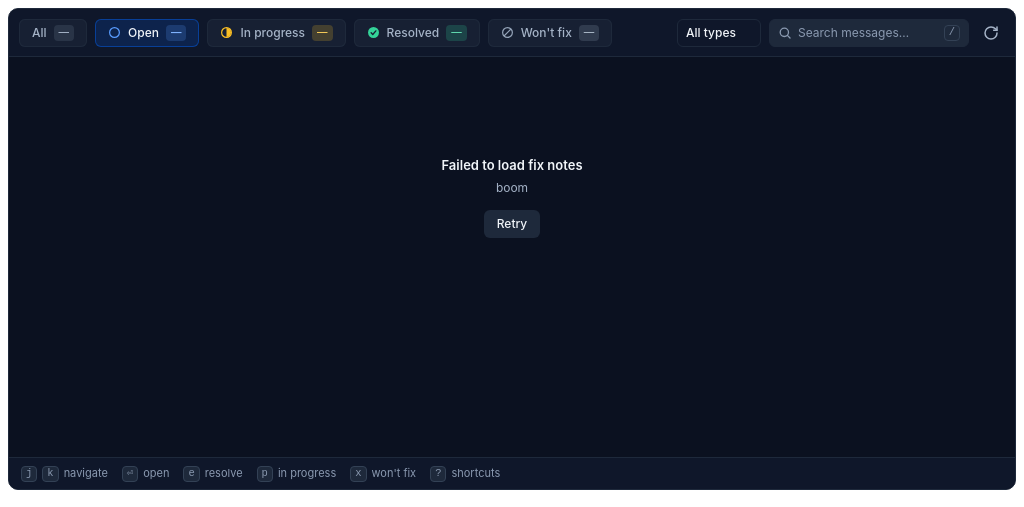
it: InstaFixInbox — empty & error states › shows the error state with a retry button when the list fails, and retry re-fetches
The image size is (1024, 507).
Expected: the text "Failed to load fix notes" is shown, [442, 156, 583, 175]
Click the button "Retry" at point(512, 224), box [484, 210, 540, 238]
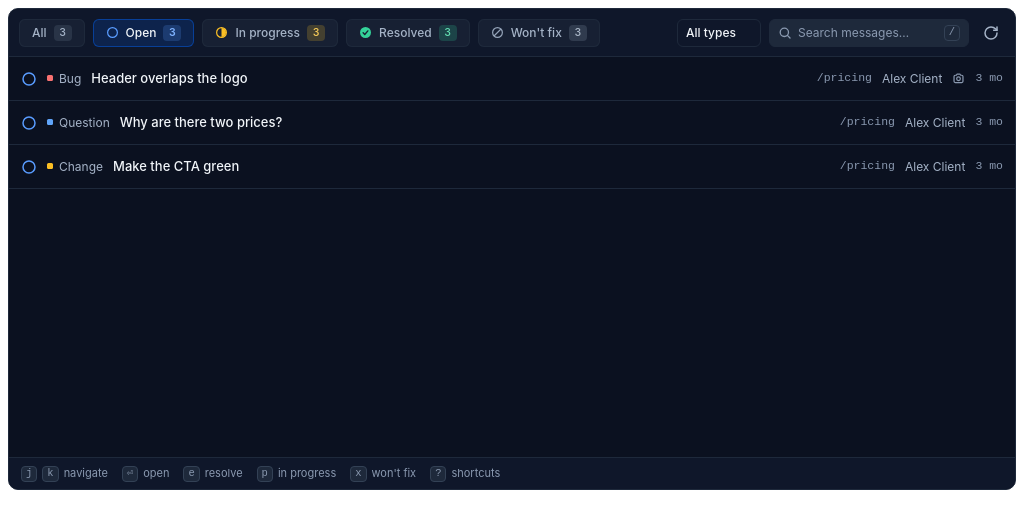
Expected: the text "Header overlaps the logo" is shown, [91, 70, 248, 86]
